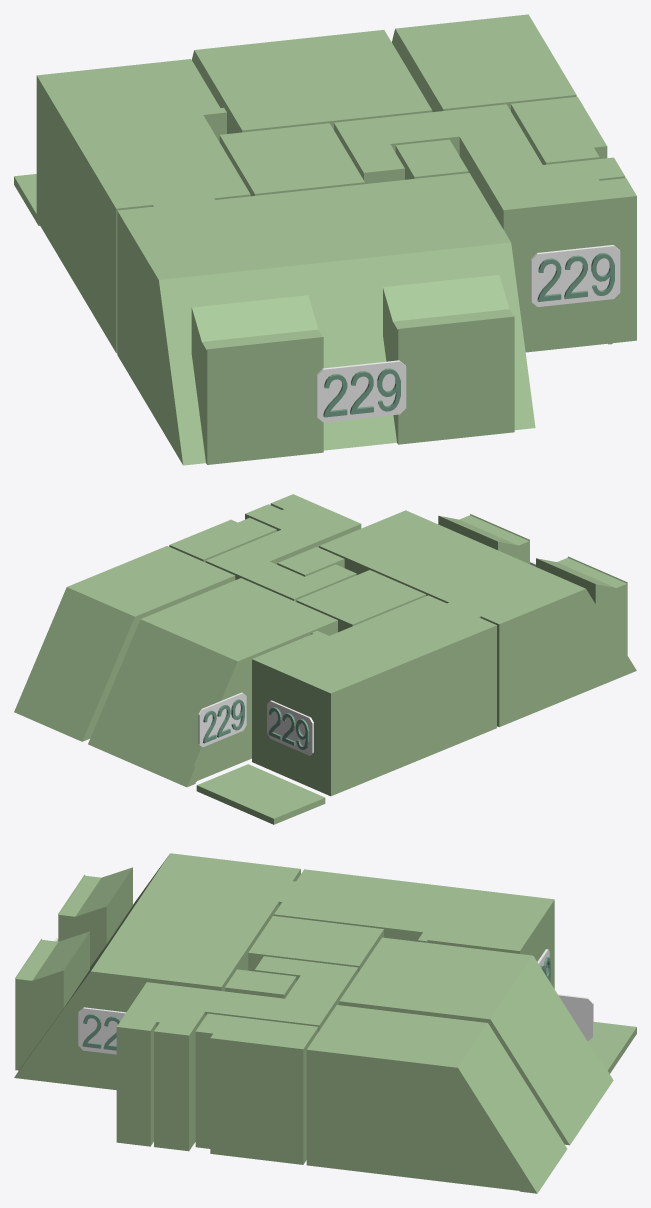
The picture shows the model from 3 angles, top to bottom: view 1: azimuth 30°, elevation 25°; view 2: azimuth 150°, elevation 25°; view 3: azimuth 270°, elevation 25°; orthographic projection. The views are drawn at different scales.
Visible parts, largest first — view 1: g_6, g_5, g_4, g_1, g_2, g_3, g_0, g_28, g_24, g_7, g_8; view 2: g_5, g_6, g_1, g_2, g_4, g_8, g_3, g_0, g_12, g_20, g_7; view 3: g_2, g_6, g_1, g_4, g_0, g_5, g_3, g_7, g_8, g_16, g_12.
Part boxes in pixels (<box>): g_6: <box>117,173,535,465</box>; g_5: <box>36,59,250,353</box>; g_4: <box>334,104,636,352</box>; g_1: <box>192,30,432,133</box>; g_2: <box>392,14,576,111</box>; g_3: <box>219,123,364,196</box>; g_0: <box>511,96,607,164</box>; g_28: <box>530,245,620,306</box>; g_24: <box>316,360,406,422</box>; g_7: <box>395,139,468,179</box>; g_8: <box>14,174,39,225</box>; g_5: <box>252,595,496,796</box>; g_6: <box>319,510,636,727</box>; g_1: <box>88,578,337,787</box>; g_2: <box>14,546,235,741</box>; g_4: <box>205,494,361,601</box>; g_8: <box>196,764,325,824</box>; g_3: <box>296,570,426,632</box>; g_0: <box>169,517,276,562</box>; g_12: <box>198,692,246,746</box>; g_20: <box>267,700,313,755</box>; g_7: <box>277,547,344,576</box>; g_2: <box>306,1005,567,1193</box>; g_6: <box>14,853,300,1090</box>; g_1: <box>339,937,613,1145</box>; g_4: <box>116,956,358,1151</box>; g_0: <box>195,1013,318,1164</box>; g_5: <box>274,869,554,988</box>; g_3: <box>248,916,383,972</box>; g_7: <box>225,969,296,998</box>; g_8: <box>587,1022,636,1073</box>; g_16: <box>78,1007,126,1054</box>; g_12: <box>558,994,593,1040</box>.
Size of the model in its own units: 11.01 by 2.71 by 12.42.
